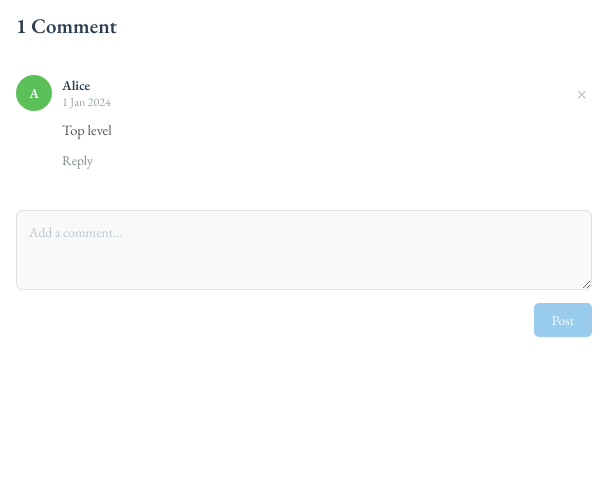
Test: reply flow › clicking Reply shows the reply form
This screenshot has width=609, height=499.
Expected: the text "Top level" is shown, [62,120,112,139]
Click the button "Reply". click: (78, 160)
box: [62,151,93,169]
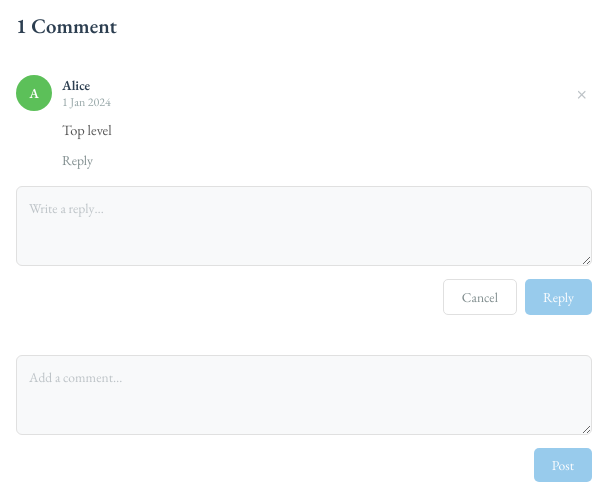
Expected: the text box with placeholder "Write a reply…" is shown, [16,186,592,266]
